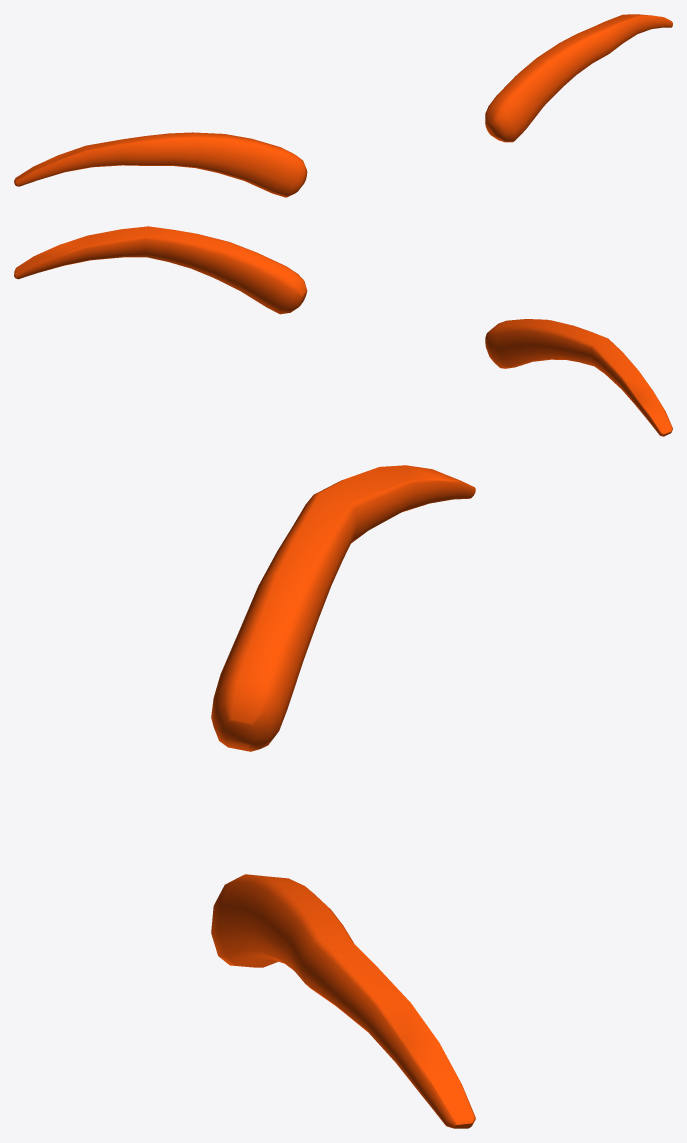
The model's file is Eyebrows_30_06.fbx.
3 views of the same model, one above another, from view 1: azimuth 30°, elevation 25°; view 2: azimuth 150°, elevation 25°; view 3: azimuth 270°, elevation 25° (orthographic). The views are drawn at different scales.
Parts seen in each view (by area): view 1: Eyebrows_30_06; view 2: Eyebrows_30_06; view 3: Eyebrows_30_06.
Part boxes in pixels (bbox=[...]): Eyebrows_30_06: bbox=[14, 14, 672, 197]; Eyebrows_30_06: bbox=[14, 226, 672, 436]; Eyebrows_30_06: bbox=[211, 465, 475, 1128].
Bounding box in the file's own units: 19.88 × 2.07 × 3.47.
